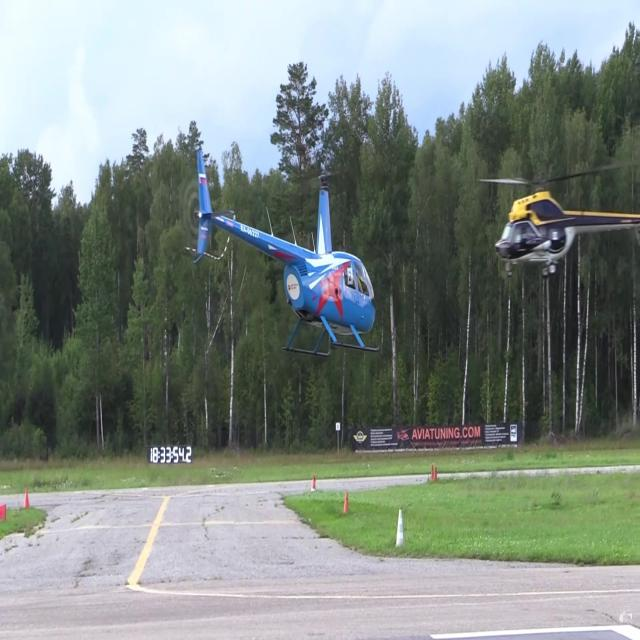CIV_HELO: (192, 148, 382, 362)
